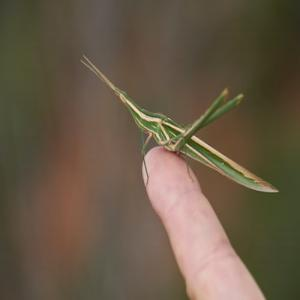locust: (87, 45, 270, 211)
